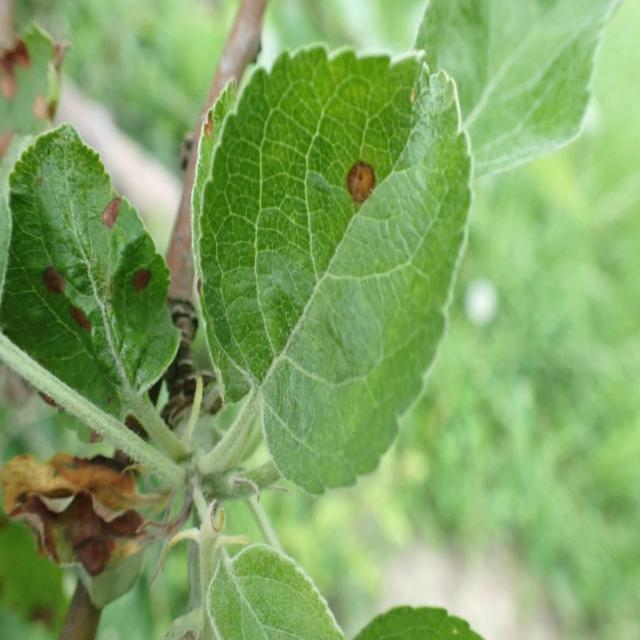Black Rot: (337, 151, 384, 216), (125, 263, 166, 320), (56, 296, 106, 336), (36, 250, 74, 294), (89, 190, 130, 230)
